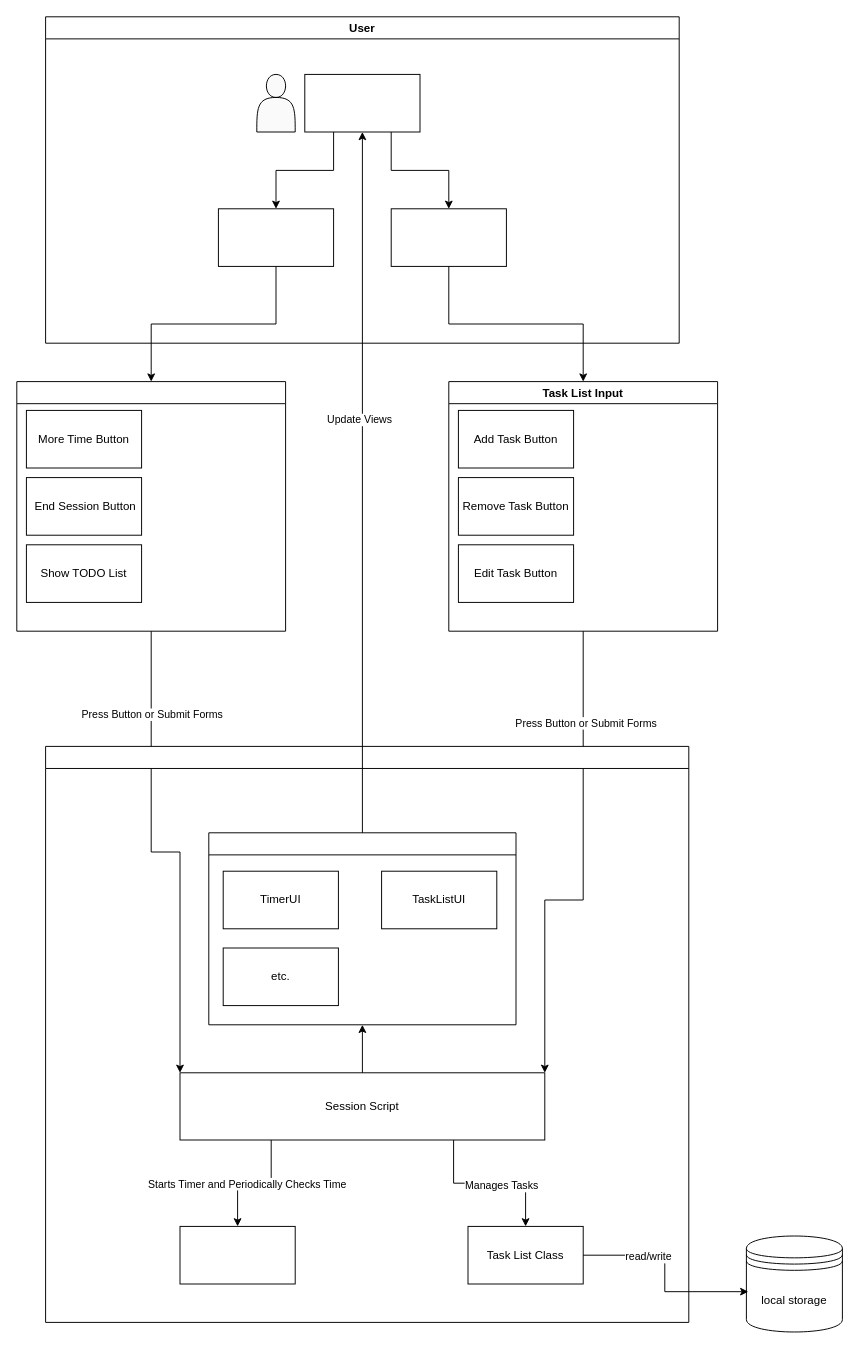
Some shapes in this 859 by 1349 pixel diagram are drawn without their labels. The box of each missing label's shape, as (x1, y1, x2, y2) in pixels:
HTML Component Management: (208, 832, 516, 1025)
HTML/CSS: (304, 73, 420, 132)
Pomodoro Components: (45, 745, 689, 1322)
Task List Block: (390, 208, 506, 266)
Timer Block: (217, 208, 334, 266)
Timer Block Input: (16, 381, 286, 631)
Timer Class: (179, 1225, 295, 1284)
